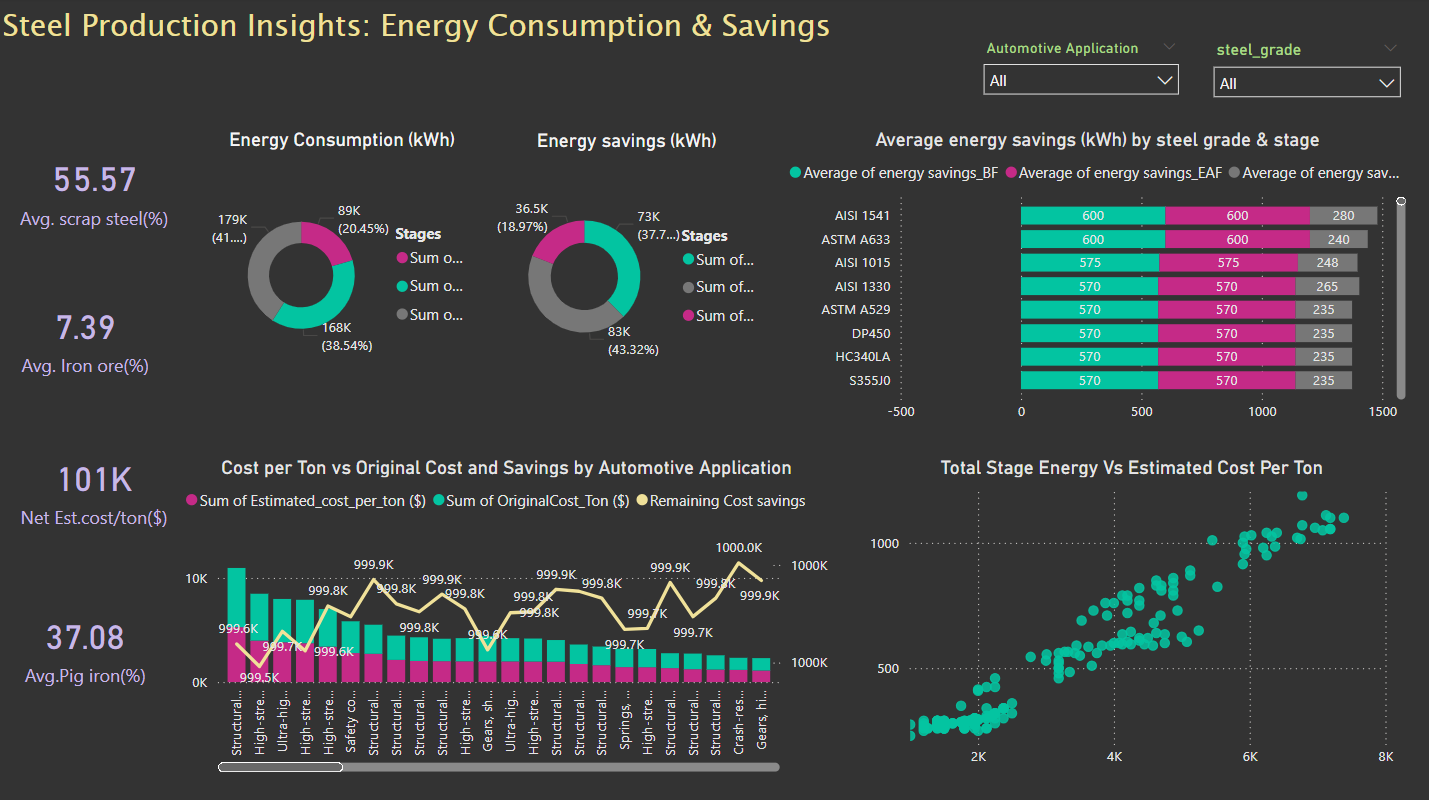

This screenshot's page, from the dashboard's own definition file:
{"tool":"powerbi","page":{"name":"Detailed","canvas":[1280,720],"ordinal":1},"visuals":[{"type":"donutChart","title":"Energy Consumption (kWh)","fields":{"Y":["Sum(data_new.LRF_El_new (Kwh))","Sum(data_new.EAF_El_new (Kwh))","Sum(data_new.BF_El_new)"]},"box":[183.2,116.9,249.6,243.8],"z":0},{"type":"barChart","title":"Average energy savings (kWh) by steel grade & stage","fields":{"Category":["data_new.steel_grade"],"Y":["Avg(data_new.energy savings_BF)","Avg(data_new.energy savings_EAF)","Avg(data_new.energy savings_LRF)"]},"box":[702.6,116.9,561.2,271.2],"z":1000},{"type":"slicer","fields":{"Values":["data_new.auto_app"]},"box":[871.4,33.2,194.8,64.9],"z":2000},{"type":"slicer","fields":{"Values":["data_new.steel_grade"]},"box":[1076.3,33.2,187.6,64.9],"z":3000},{"type":"donutChart","title":"Energy savings (kWh)","fields":{"Y":["Sum(data_new.energy savings_BF)","Sum(data_new.energy savings_EAF)","Sum(data_new.energy savings_LRF)"]},"box":[432.8,118.3,258.3,243.8],"z":4000},{"type":"lineStackedColumnComboChart","title":"Cost per Ton vs Original Cost and Savings by Automotive Application","fields":{"Category":["data_new.auto_app"],"Y":["Sum(data_new.Estimated_cost_per_ton ($))","Sum(data_new.OriginalCost_Ton ($))"],"Y2":["data_new.Remaining Cost savings"]},"box":[163,409.7,584.3,287.1],"z":5000},{"type":"scatterChart","title":"Total Stage Energy Vs Estimated Cost Per Ton","fields":{"X":["Sum(data_new.Total_El_Con (Kwh))"],"Y":["Sum(data_new.Estimated_cost_per_ton ($))"],"Category":["data_new.steel_grade"]},"box":[774.8,409.7,477.6,287.1],"z":6000},{"type":"card","fields":{"Values":["data_new.Avg. scrap steel(%)"]},"box":[11.5,116.9,151.5,109.6],"z":7000},{"type":"card","fields":{"Values":["data_new.Avg. Iron ore(%)"]},"box":[11.5,252.5,135.6,102.4],"z":8000},{"type":"card","fields":{"Values":["data_new.Net Est.cost/ton($)"]},"box":[11.5,388.1,151.5,102.4],"z":9000},{"type":"card","fields":{"Values":["data_new.Avg.Pig iron(%)"]},"box":[11.5,529.5,135.6,102.4],"z":10000},{"type":"textbox","box":[0,0,758.9,66.4],"z":11000}]}

Visuals, with their boxes in screenshot pixels (x1, y1, x2, y2), scaled from the page's 1280x720 canvas onto the 1429x800 screenshot:
"Energy Consumption (kWh)" donutChart: [left=205, top=130, right=483, bottom=401]
"Average energy savings (kWh) by steel grade & stage" barChart: [left=784, top=130, right=1411, bottom=431]
slicer - data_new.auto_app: [left=973, top=37, right=1190, bottom=109]
slicer - data_new.steel_grade: [left=1202, top=37, right=1411, bottom=109]
"Energy savings (kWh)" donutChart: [left=483, top=131, right=772, bottom=402]
"Cost per Ton vs Original Cost and Savings by Automotive Application" lineStackedColumnComboChart: [left=182, top=455, right=834, bottom=774]
"Total Stage Energy Vs Estimated Cost Per Ton" scatterChart: [left=865, top=455, right=1398, bottom=774]
card - data_new.Avg. scrap steel(%): [left=13, top=130, right=182, bottom=252]
card - data_new.Avg. Iron ore(%): [left=13, top=281, right=164, bottom=394]
card - data_new.Net Est.cost/ton($): [left=13, top=431, right=182, bottom=545]
card - data_new.Avg.Pig iron(%): [left=13, top=588, right=164, bottom=702]
textbox: [left=0, top=0, right=847, bottom=74]
